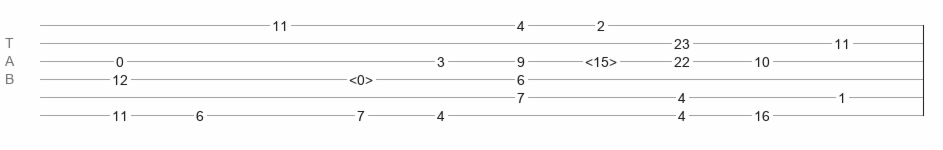0: (116, 54, 124, 64)
1: (838, 90, 846, 100)
10: (754, 54, 770, 64)
11: (112, 108, 128, 118), (272, 18, 288, 28), (834, 36, 850, 46)
12: (112, 72, 128, 82)
16: (754, 108, 770, 118)
2: (597, 18, 605, 28)
22: (674, 54, 690, 64)
23: (674, 36, 690, 46)
3: (437, 54, 445, 64)
4: (437, 108, 445, 118), (517, 18, 525, 28), (678, 90, 686, 100), (678, 108, 686, 118)
6: (196, 108, 204, 118), (517, 72, 525, 82)
7: (357, 108, 365, 118), (517, 90, 525, 100)
9: (517, 54, 525, 64)
harmonic: (585, 54, 617, 64), (349, 72, 373, 82)
